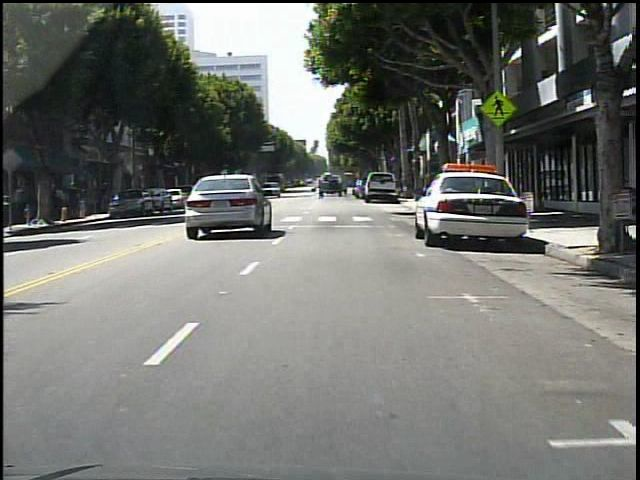person: (421, 167, 436, 211), (69, 181, 81, 219), (18, 182, 29, 223), (57, 185, 69, 219), (318, 178, 329, 200)
